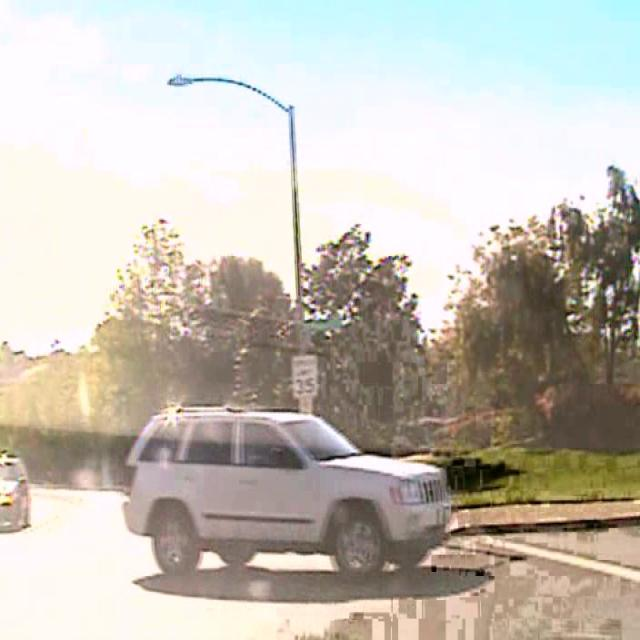speedLimit35: (290, 352, 317, 400)
